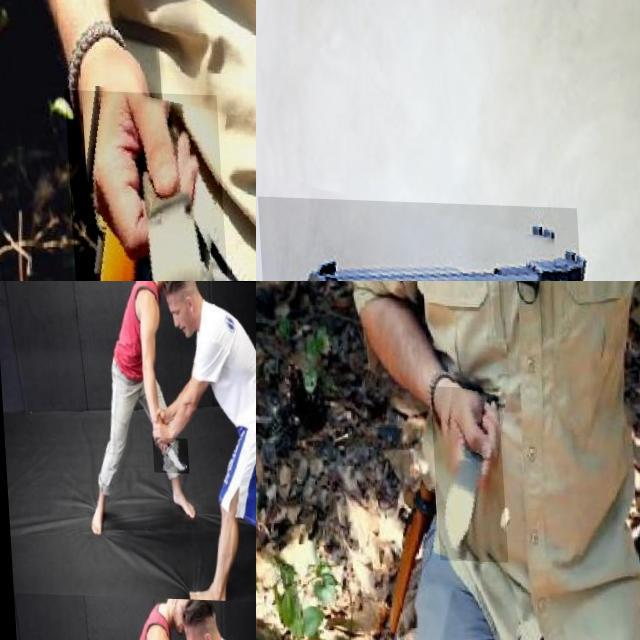-: (61, 88, 224, 281), (427, 385, 503, 561), (150, 437, 187, 472)
gun-knife-thesis - v11 Yolov5 augmented: (256, 196, 593, 281)
